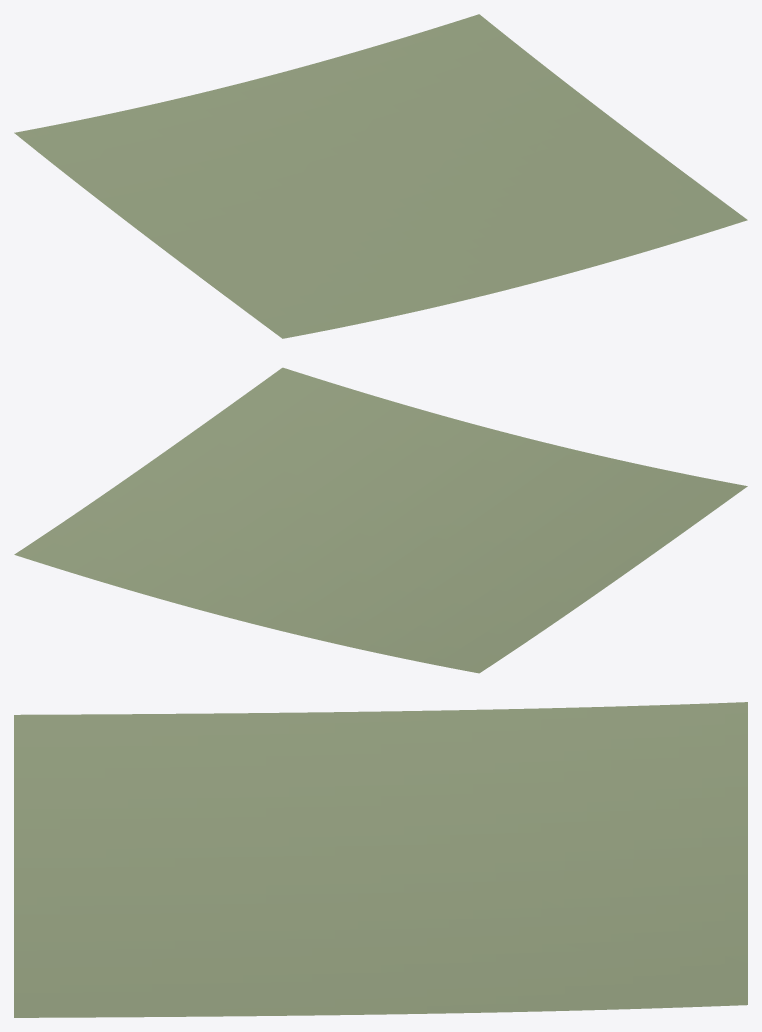
File: valley-4-4.glb
The picture shows the model from 3 angles, top to bottom: view 1: azimuth 30°, elevation 25°; view 2: azimuth 150°, elevation 25°; view 3: azimuth 270°, elevation 25°; orthographic projection. The views are drawn at different scales.
Parts seen in each view (by area): view 1: valley-4-4; view 2: valley-4-4; view 3: valley-4-4.
Boxes of the visible parts, x1=… form: valley-4-4: x1=14, y1=14, x2=747, y2=338; valley-4-4: x1=14, y1=367, x2=747, y2=673; valley-4-4: x1=14, y1=702, x2=747, y2=1017.
Bounding box in the file's own units: 256 × 10.76 × 256.
